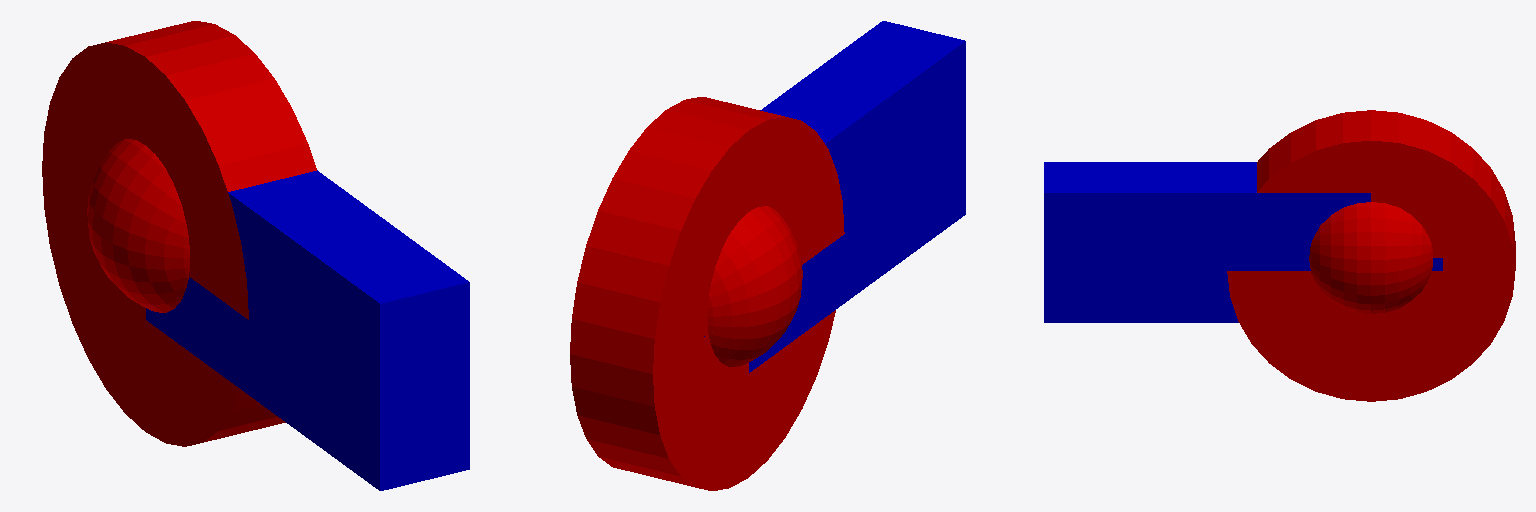
URDF robot description (TwoLinkStruct7851704258):
<?xml version="1.0"?>
<robot  name="TwoLinkStruct7851704258" >
 <material  name="blue" >
  <color  rgba="0 0 0.8 1.0" />
 </material>
 <material  name="red" >
  <color  rgba="0.8 0 0 1.0" />
 </material>
 <link  name="base_link" >
  <visual >
   <origin  rpy="0 1.5707 0"  xyz="0 0 0" />
   <material  name="red" />
   <geometry >
    <cylinder  length="0.05"  radius="0.1" />
   </geometry>
  </visual>
 </link>
 <joint  type="revolute"  name="joint1" >
  <parent  link="base_link" />
  <child  link="link1" />
  <origin  xyz="0 0 0"  rpy="0 0 0" />
  <axis  xyz="1 0 0" />
 </joint>
 <link  name="link1" >
  <inertial >
   <origin  rpy="0 0 0"  xyz="0 0 0.005" />
   <mass  value="0.005533807277679444" />
   <inertia  ixy="0.0"  iyy="2.3057530323664352e-06"  izz="1.1989915768305463e-06"  ixz="0.0"  ixx="1.1989915768305463e-06"  iyz="0.0" />
  </inertial>
  <visual >
   <origin  rpy="0 0 0"  xyz="0 0 0.005" />
   <material  name="blue" />
   <geometry >
    <box  size="0.05 0.1 0.01" />
   </geometry>
  </visual>
 </link>
 <joint  type="fixed"  name="joint-joint-1" >
  <parent  link="link1" />
  <child  link="joint-link-1" />
  <origin  xyz="0 0 0.01"  rpy="1.5707 0 0" />
  <axis  xyz="1 0 0" />
 </joint>
 <link  name="joint-link-1" >
  <inertial >
   <origin  rpy="0 0 0"  xyz="0 0 0" />
   <mass  value="0.09213463116564487" />
   <inertia  ixy="0"  iyy="0"  izz="0"  ixz="0"  ixx="0"  iyz="0" />
  </inertial>
  <visual >
   <origin  rpy="0 0 0"  xyz="0 0 0" />
   <material  name="red" />
   <geometry >
    <sphere  radius="0.05" />
   </geometry>
  </visual>
 </link>
 <joint  type="revolute"  name="joint2" >
  <parent  link="link1" />
  <child  link="link2" />
  <origin  xyz="0 0 0.01"  rpy="1.5707 0 0" />
  <axis  xyz="1 0 0" />
 </joint>
 <link  name="link2" >
  <inertial >
   <origin  rpy="0 0 0"  xyz="0 0 0.11338051848947223" />
   <mass  value="0.22510436598755076" />
   <inertia  ixy="0.0"  iyy="2.3057530323664352e-06"  izz="2.4865502584672037e-05"  ixz="0.0"  ixx="2.4865502584672037e-05"  iyz="0.0" />
  </inertial>
  <visual >
   <origin  rpy="0 0 0"  xyz="0 0 0.11338051848947223" />
   <material  name="blue" />
   <geometry >
    <box  size="0.05 0.1 0.22676103697894445" />
   </geometry>
  </visual>
 </link>
 <joint  type="fixed"  name="eef_joint" >
  <parent  link="link2" />
  <child  link="eef" />
  <origin  xyz="0 0 0.22676103697894445"  rpy="0 0 0" />
 </joint>
 <link  name="eef" >
  <inertial >
   <origin  rpy="0 0 0"  xyz="0 0 0" />
   <mass  value="1" />
   <inertia  ixy="0"  iyy="0"  izz="0"  ixz="0"  ixx="0"  iyz="0" />
  </inertial>
 </link>
 <transmission  name="motor1" >
  <type  xmltext="SimpleTransmission" >
   SimpleTransmission
  </type>
  <actuator  name="motor1" >
   <mechanicalreduction  xmltext="1" >
    1
   </mechanicalreduction>
  </actuator>
  <joint  name="joint1" />
 </transmission>
 <transmission  name="motor2" >
  <type  xmltext="SimpleTransmission" >
   SimpleTransmission
  </type>
  <actuator  name="motor2" >
   <mechanicalreduction  xmltext="1" >
    1
   </mechanicalreduction>
  </actuator>
  <joint  name="joint2" />
 </transmission>
</robot>

<!-- {'carti': array([-0.1 ,  0.14,  0.85]), 'cartd': array([-0.1 ,  0.32,  1.29]), 'tau_mu': 1.0, 'b0': 1.0, 'Km': 4.54696088669814, 'k_velocity': 48.442351243042964, 'tau_max_m': 0.001, 'omega_max_m': 9000.0, 'gear_ratio': 0.1, 'Kp': 0.0, 'Kd': 0.0, 'm_m': 0.09213463116564487, 'l1': 0.01, 'l2': 0.22676103697894445, 'k1': 30900.0, 'k2': 1000.0, 'k3': 1000.0}-->

--- Render facts (derived) ---
Views: 3 orthographic renders of the robot side by side, from view 1: azimuth 30°, elevation 25°; view 2: azimuth 150°, elevation 25°; view 3: azimuth 270°, elevation 25°.
Model TwoLinkStruct7851704258 with 5 links and 4 joints (2 revolute, 2 fixed), rooted at base_link, posed all joints at 0.
Links seen in each view (by area): view 1: link2, base_link, joint-link-1; view 2: base_link, link2, joint-link-1; view 3: base_link, link2, joint-link-1.
Link boxes in pixels (x1,y1,x2,y2): link2: (146, 170, 469, 490); base_link: (42, 21, 316, 446); joint-link-1: (87, 139, 189, 312); base_link: (570, 97, 844, 490); link2: (749, 21, 965, 372); joint-link-1: (707, 206, 802, 367); base_link: (1227, 110, 1515, 401); link2: (1044, 162, 1370, 322); joint-link-1: (1309, 202, 1432, 313).
Size in the robot's own frame: 0.1 by 0.3268 by 0.2 metres.
Geometry: primitives only (box / cylinder / sphere), no mesh files.
